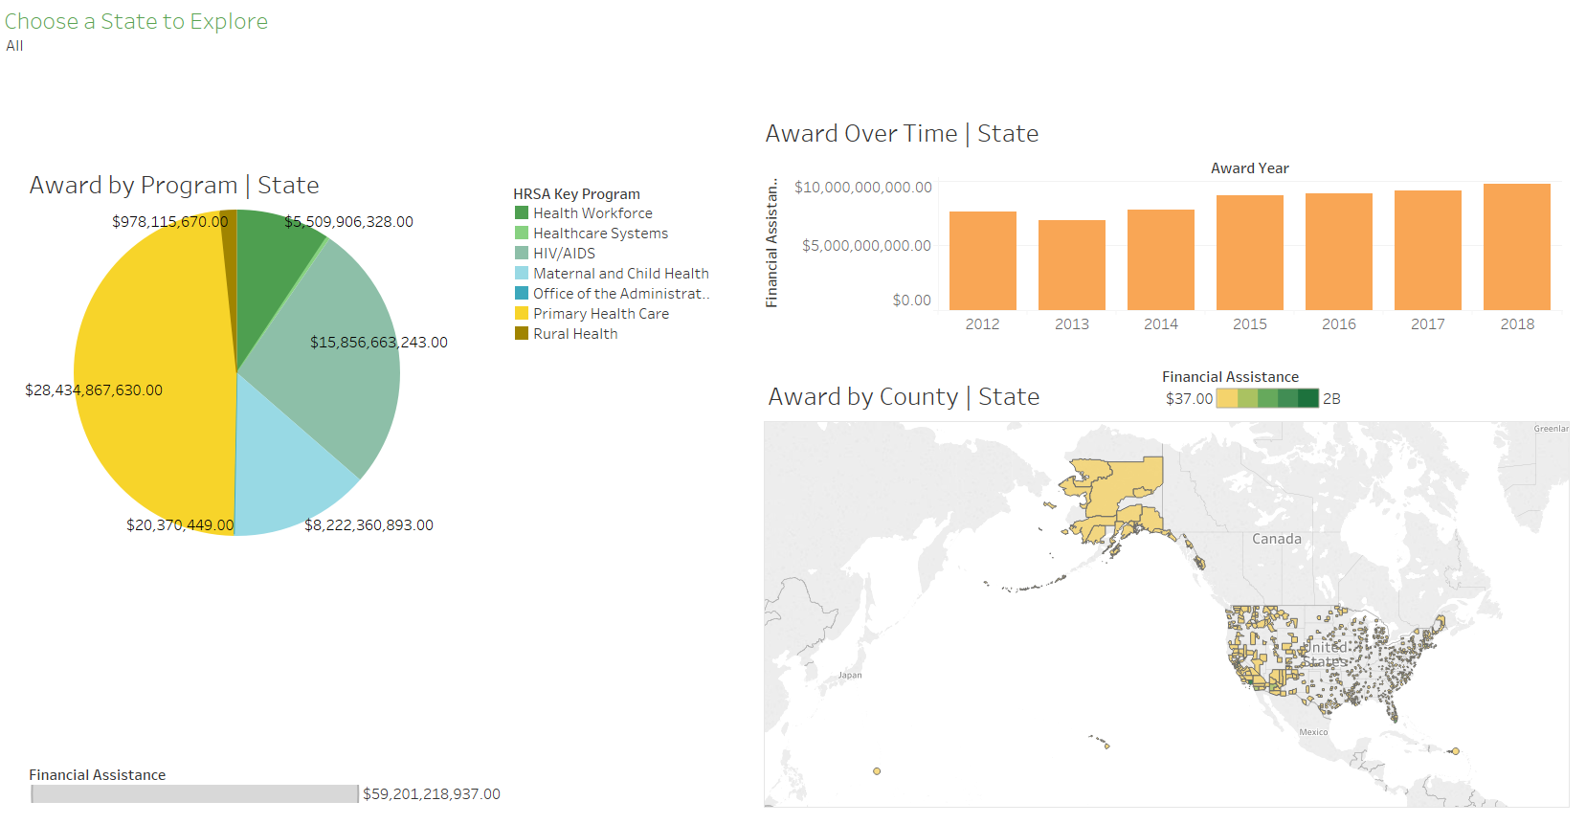

The page's visual inventory and layout, read from the dashboard file:
{"tool":"tableau","page":{"name":"Explore Your State","canvas":[1000,1000],"units":"permille","ordinal":1},"visuals":[{"type":"filter","title":"Award Over Time | State","param":"[federated.1ukabbe00wwjyq1djjiwl0kc8hmf].[none:State Abbreviation:nk]","box":[0,0,1000,83.6]},{"type":"worksheet","title":"Award Over Time | State","mark":"Automatic","rows":["Financial Assistance"],"cols":["Award Year"],"box":[479.8,133.6,505.1,271.8]},{"type":"worksheet","title":"Award by Program | State","mark":"Pie","box":[15.7,196.3,382,662]},{"type":"legend","title":"Award by Program | State","param":"[federated.1ukabbe00wwjyq1djjiwl0kc8hmf].[none:HRSA Key Program:nk]","box":[322.9,220.7,127.3,448.3]},{"type":"legend","title":"Award by County | State","param":"[federated.1ukabbe00wwjyq1djjiwl0kc8hmf].[sum:Financial Assistance:qk]","box":[732.6,440.2,115.9,102.2]},{"type":"worksheet","title":"Award by County | State","mark":"Automatic","box":[481.6,453,508.2,527.3]},{"type":"legend","title":"Award by Program | State","param":"[federated.1ukabbe00wwjyq1djjiwl0kc8hmf].[sum:Financial Assistance:qk]","box":[17.5,925.7,443.6,49.9]}]}

Visuals, with their boxes on the dashboard's canvas, which has no fixed pixel size, in thousandths of its width and height (x1, y1, x2, y2). These are canvas units, not pixel positions in the 1586x824 screenshot, which may show the page scaled, cropped or inside an application window:
"Award Over Time | State" filter: x1=0, y1=0, x2=1000, y2=84
"Award Over Time | State" worksheet: x1=480, y1=134, x2=985, y2=405
"Award by Program | State" worksheet (Pie marks): x1=16, y1=196, x2=398, y2=858
"Award by Program | State" legend: x1=323, y1=221, x2=450, y2=669
"Award by County | State" legend: x1=733, y1=440, x2=848, y2=542
"Award by County | State" worksheet: x1=482, y1=453, x2=990, y2=980
"Award by Program | State" legend: x1=18, y1=926, x2=461, y2=976
